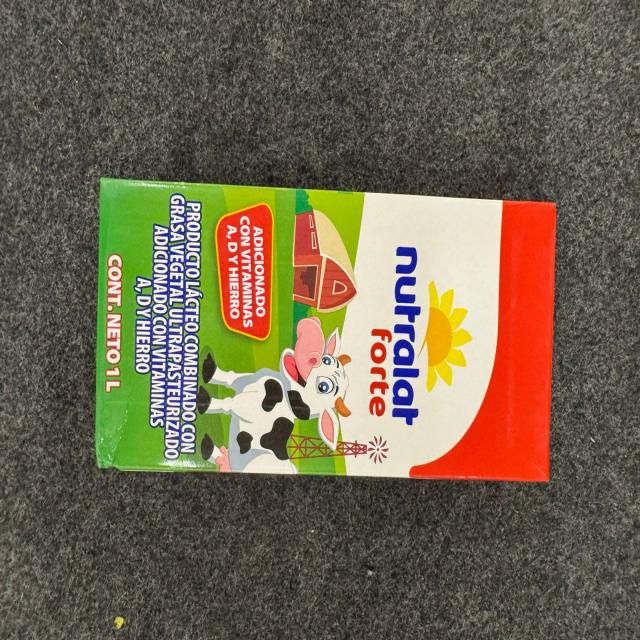PLC NUTRALAT FORTE 1LT: (93, 174, 557, 486)
